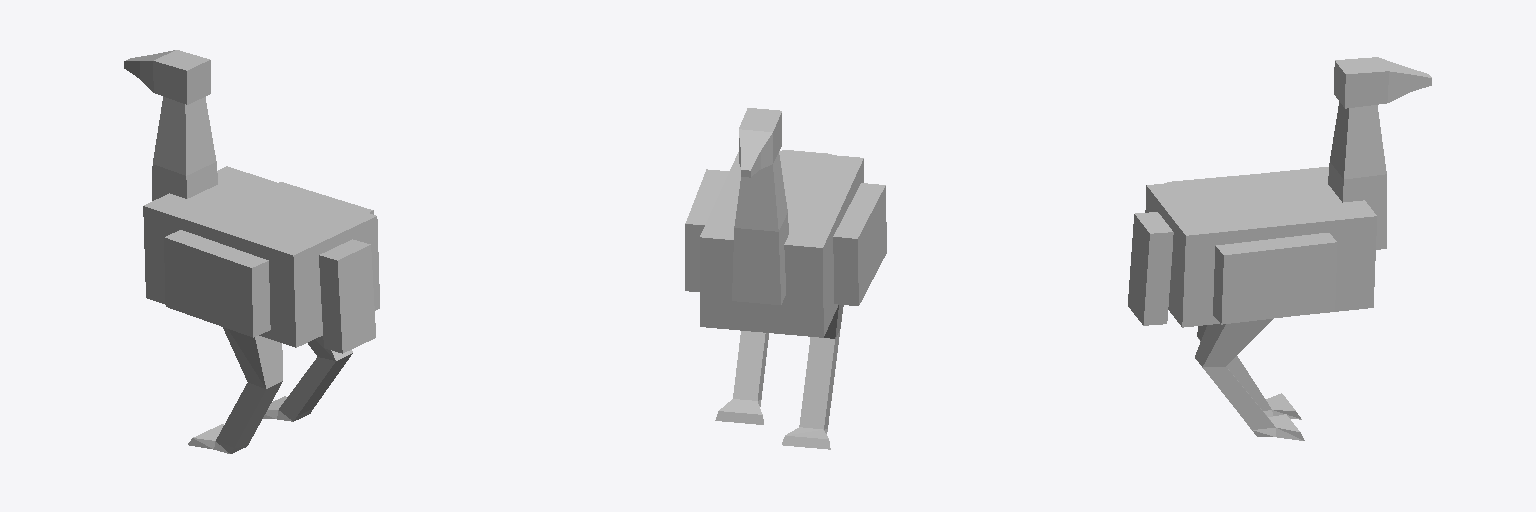
File: Ostrich_000088.obj
The picture shows the model from 3 angles: view 1: azimuth 30°, elevation 25°; view 2: azimuth 150°, elevation 25°; view 3: azimuth 270°, elevation 25°; orthographic projection.
Visible parts, largest first — view 1: Cube_Cube.001; view 2: Cube_Cube.001; view 3: Cube_Cube.001.
Boxes of the visible parts, box(x1,y1,x2,y2) form: Cube_Cube.001: box(124, 50, 379, 453); Cube_Cube.001: box(685, 108, 886, 449); Cube_Cube.001: box(1128, 57, 1431, 440).
Size of the model in its own units: 0.8329 by 1.54 by 1.21.